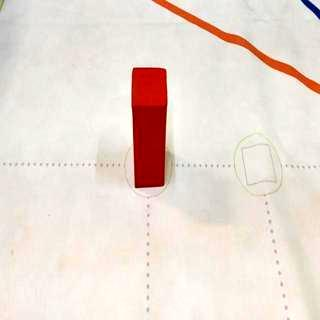redbox: (132, 67, 168, 190)
